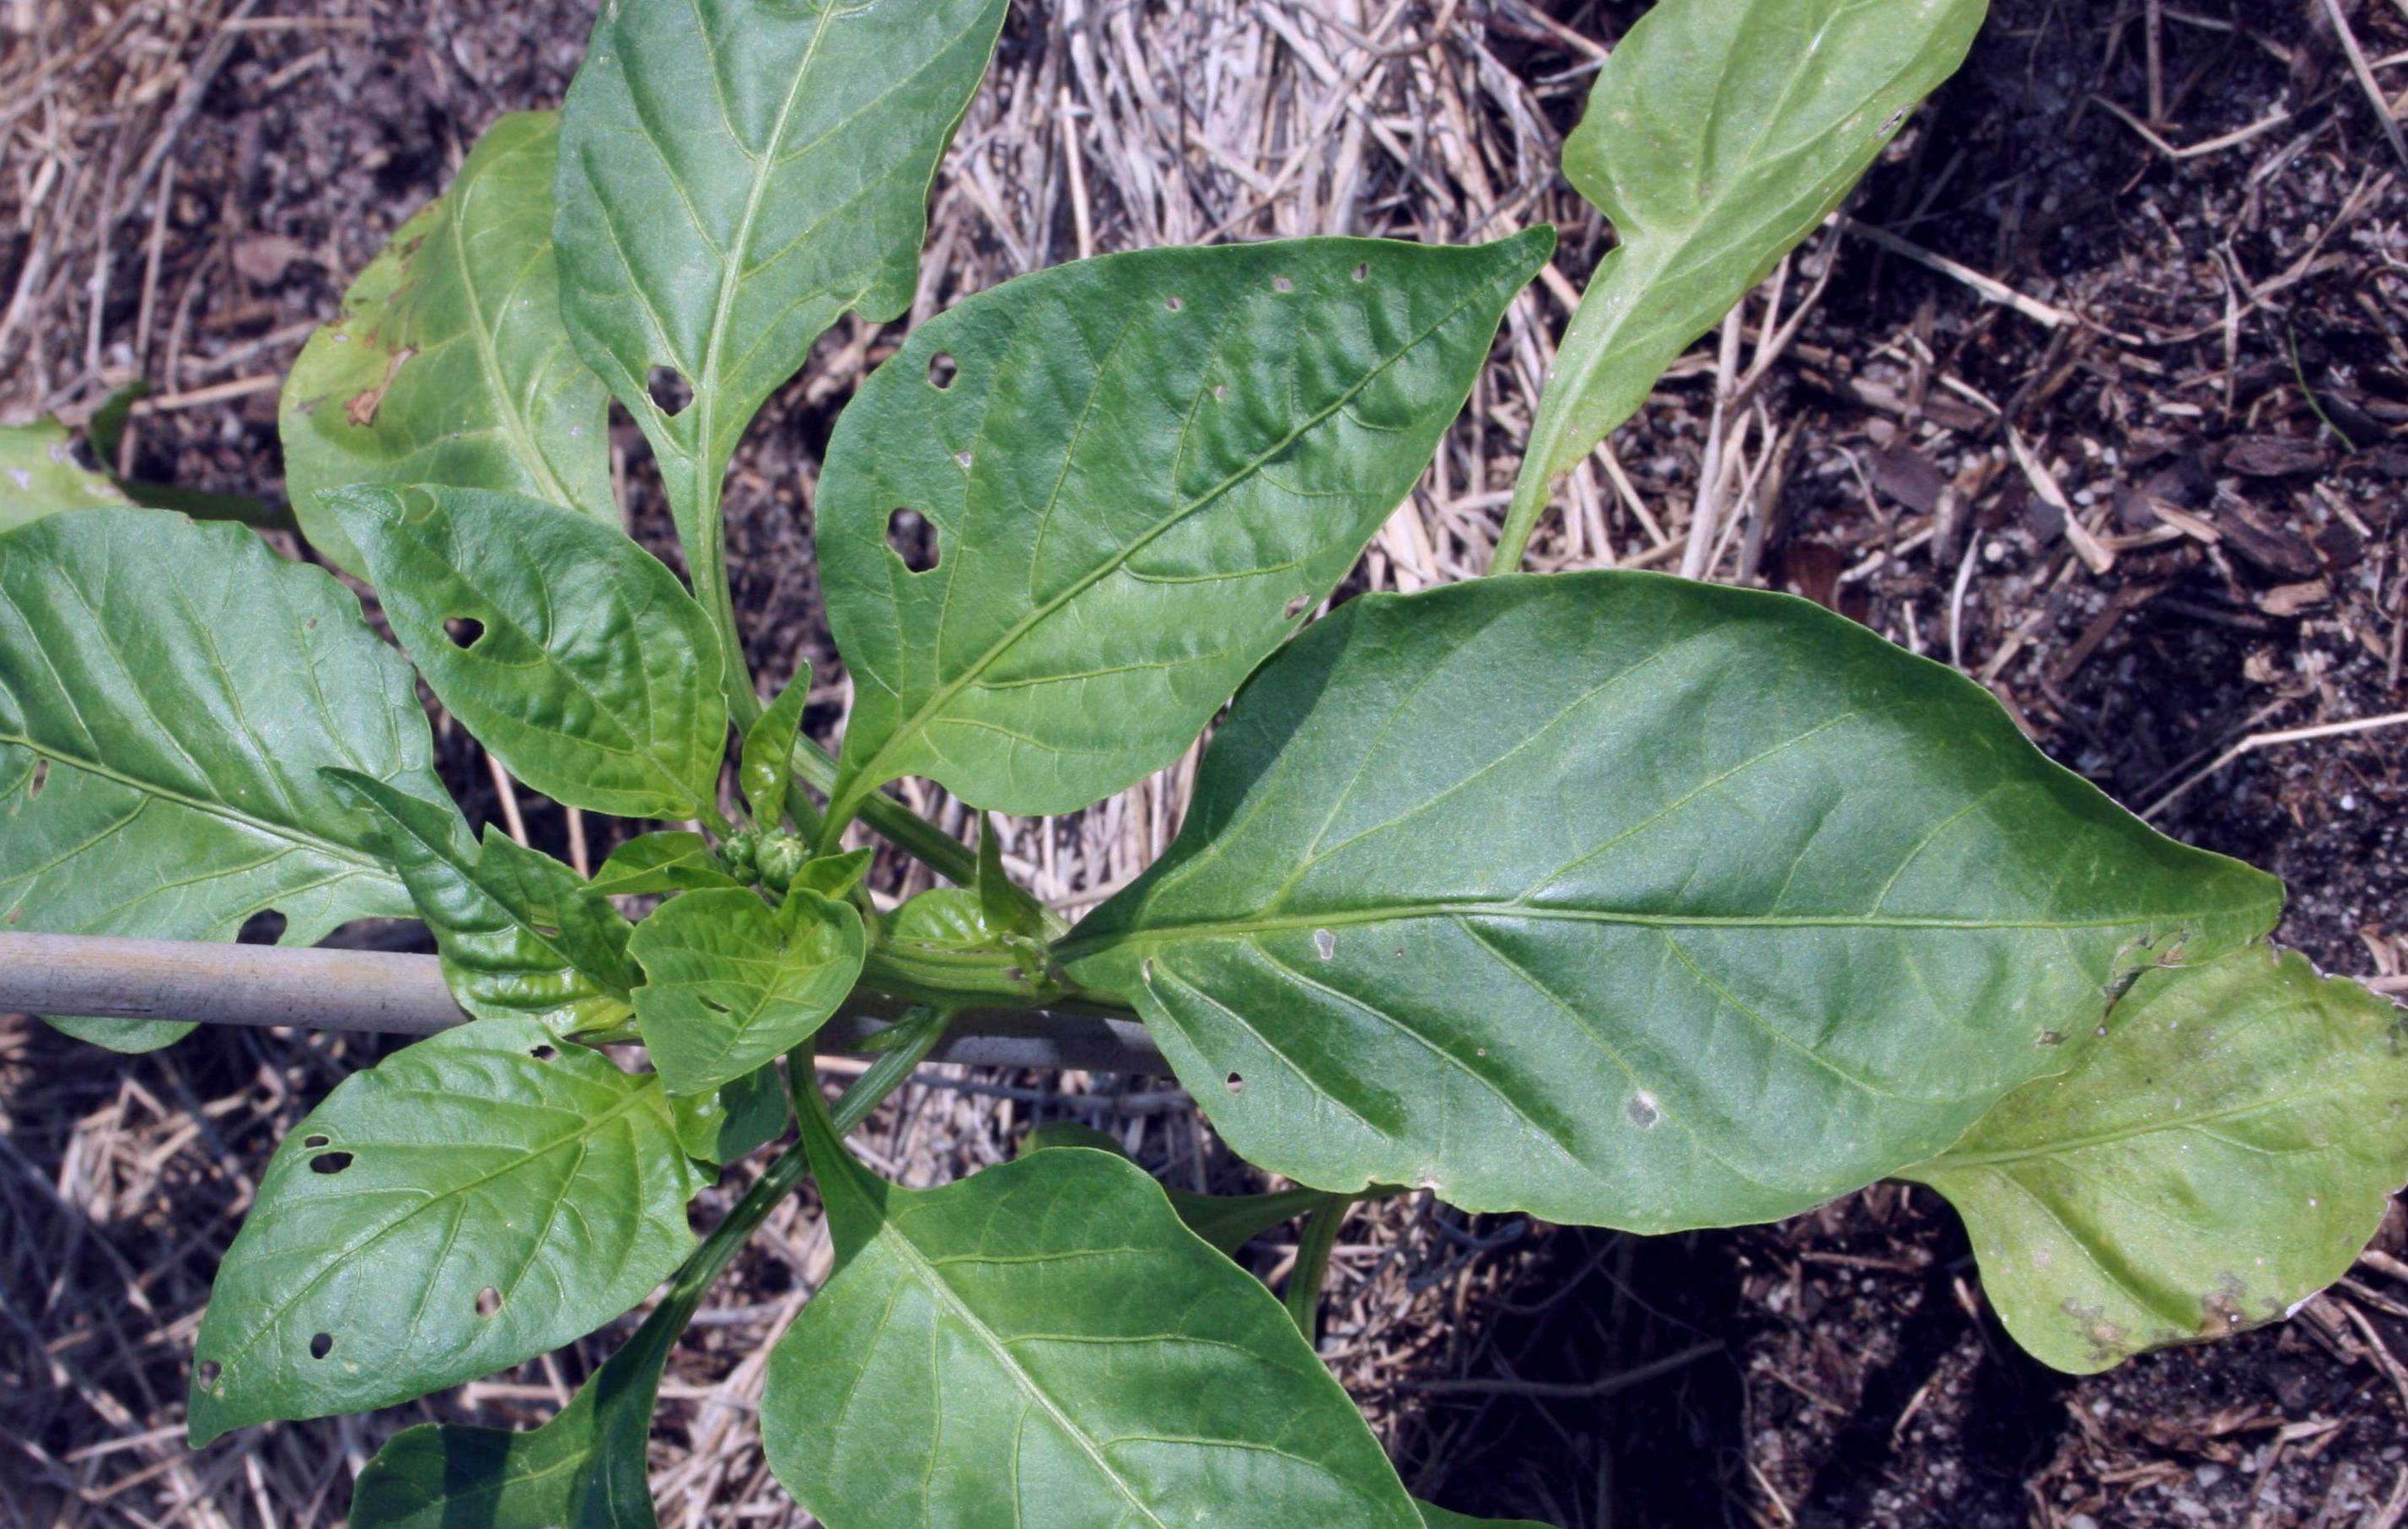Tomato leaf: (1120, 585, 2220, 1204), (786, 95, 1581, 815), (763, 1108, 1553, 1529), (549, 0, 1076, 565), (1462, 0, 2003, 549), (0, 469, 477, 974), (109, 1039, 714, 1438)
